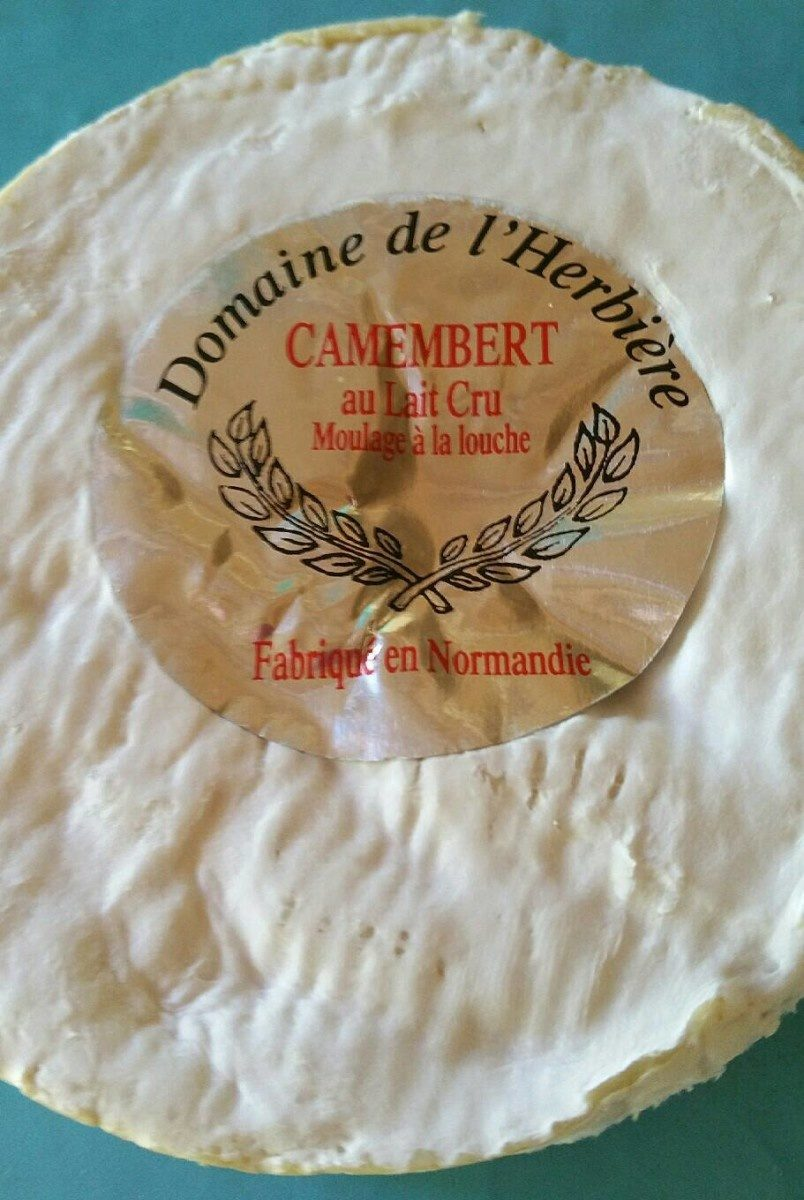camembert: (7, 12, 803, 1187)
